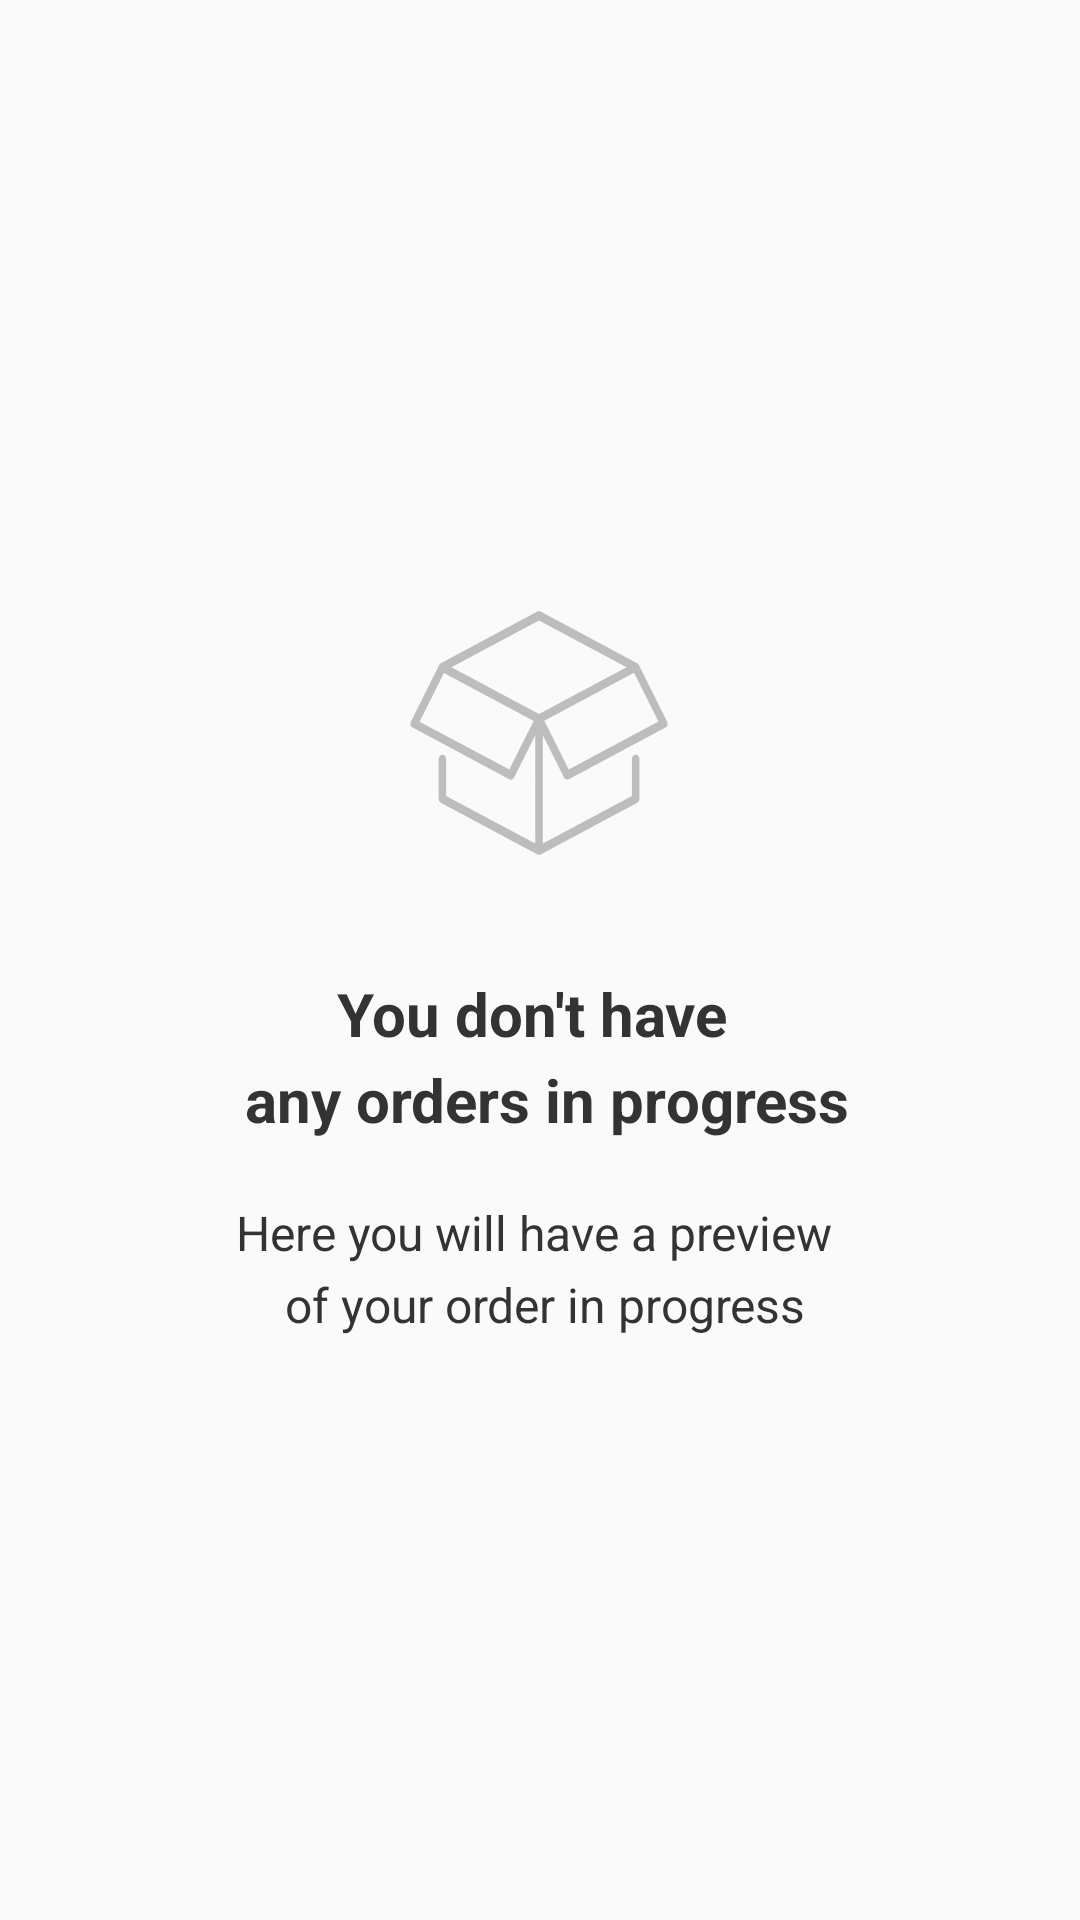

Screen size 1080 x 1920. Icon name, then its box in pixels as (x1, y1, x2, y2):
order processing empty: (410, 611, 668, 855)
